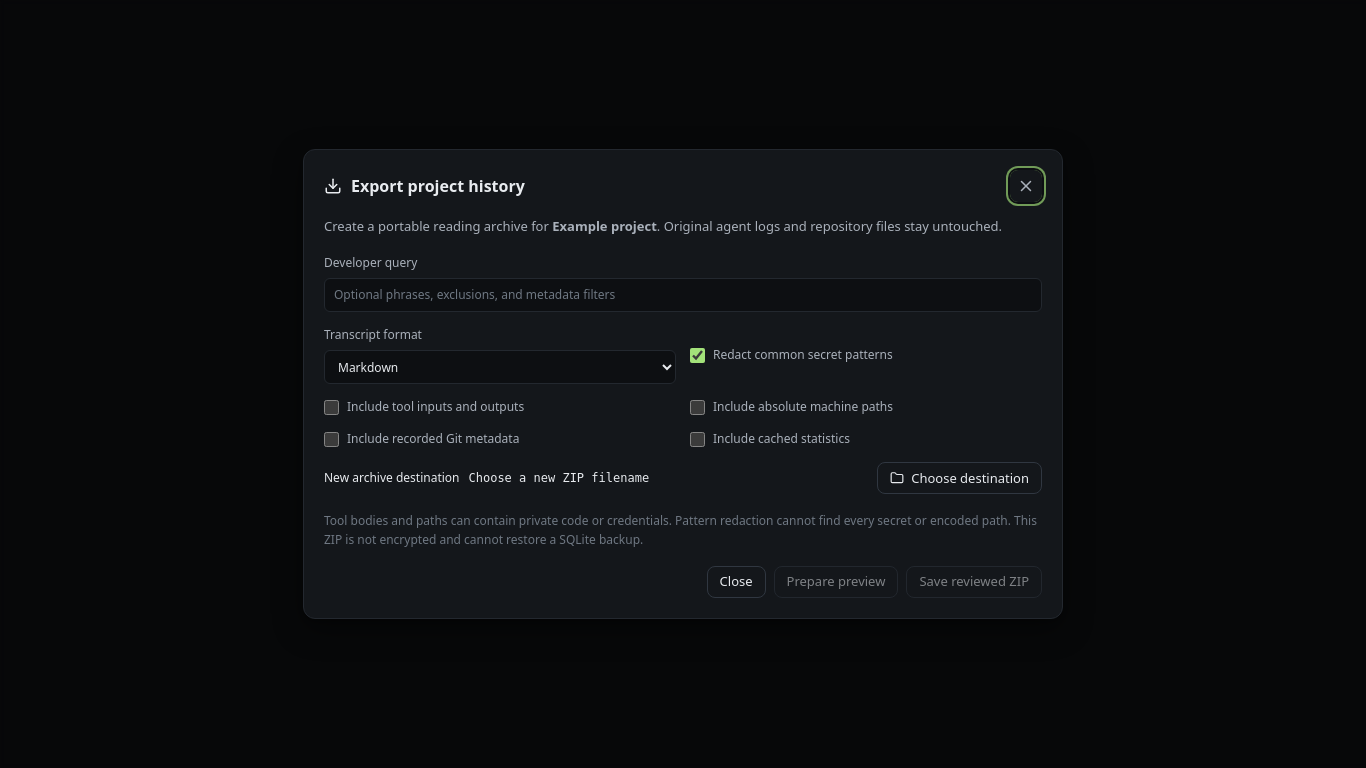
Test: cancelling a pending preview never makes its late response actionable
Step 1. Click the button "Choose destination" → {"x": 960, "y": 478}, box [877,462,1042,494]
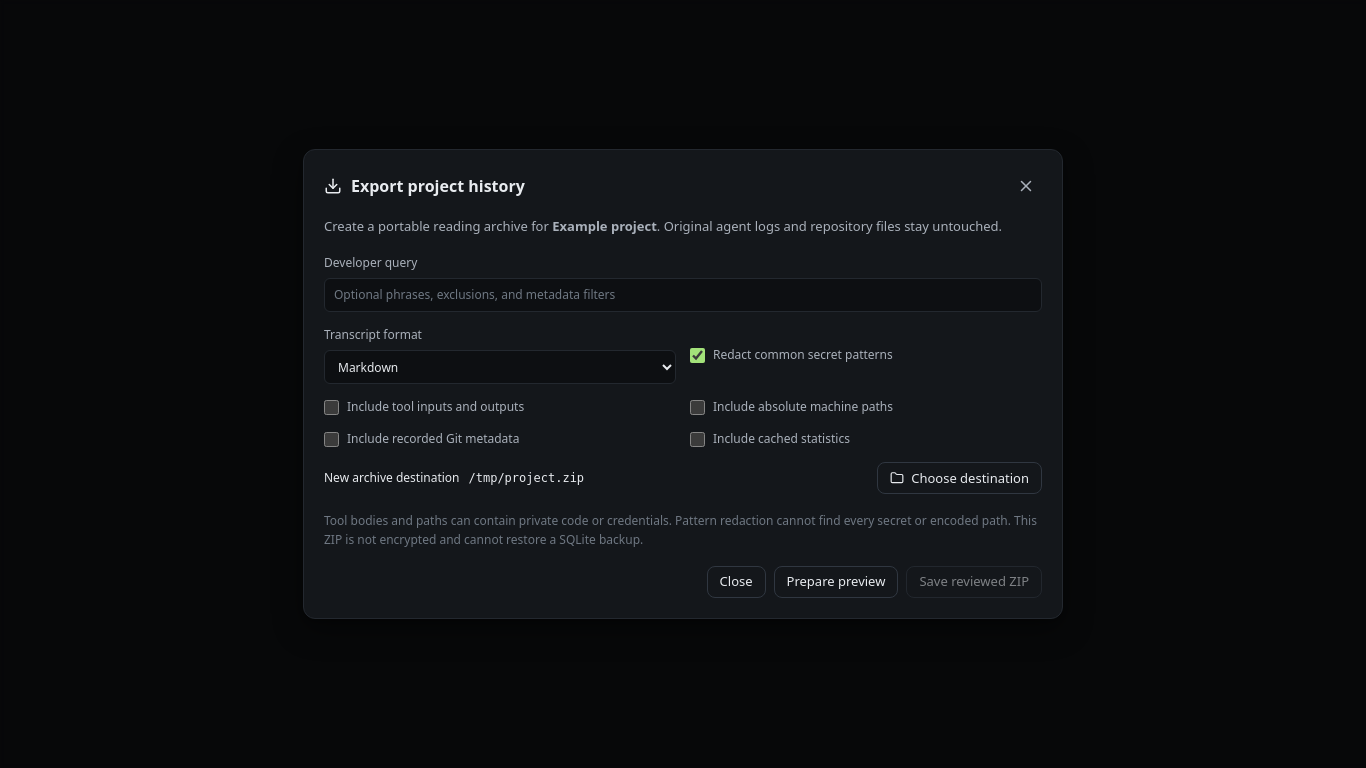
Step 2. Click the button "Prepare preview" → {"x": 836, "y": 582}, box [774,566,898,598]
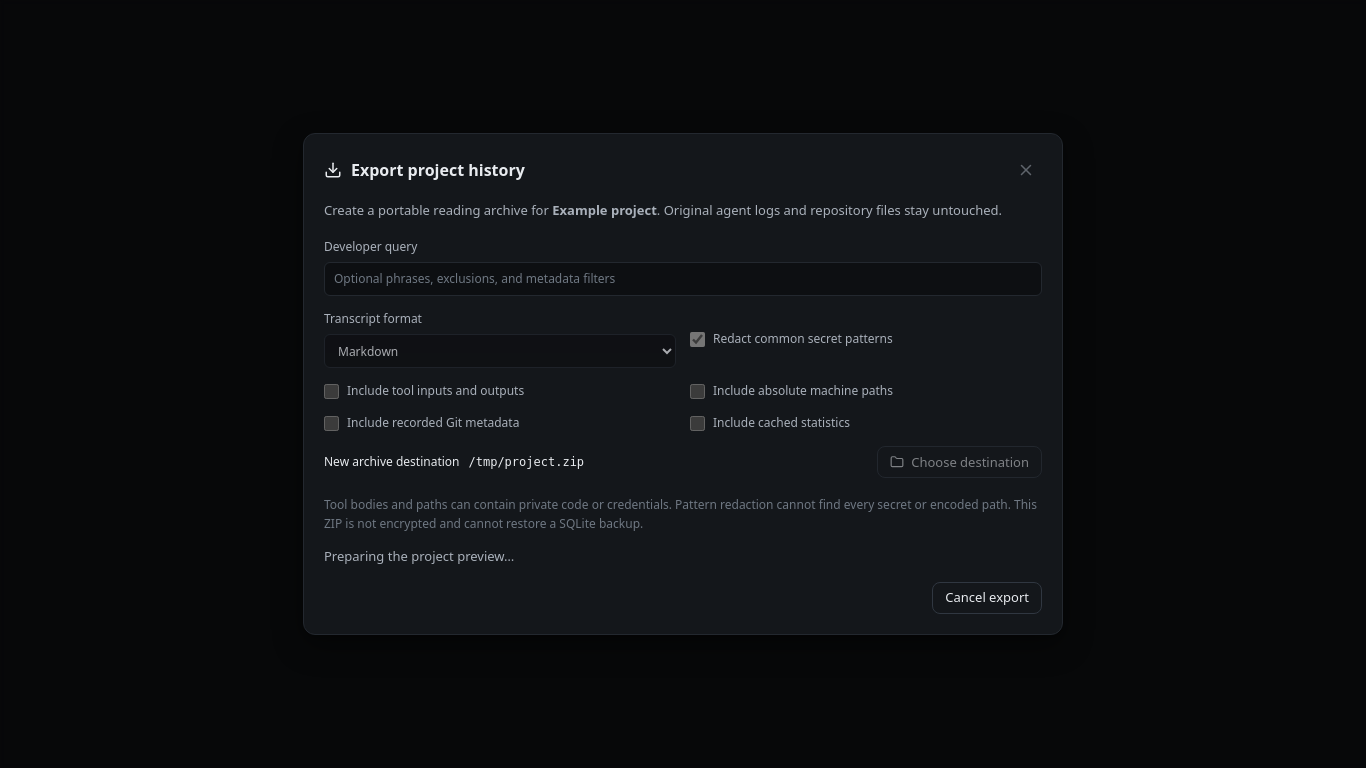
Step 3. Click the button "Cancel export" → {"x": 987, "y": 598}, box [932,582,1042,614]
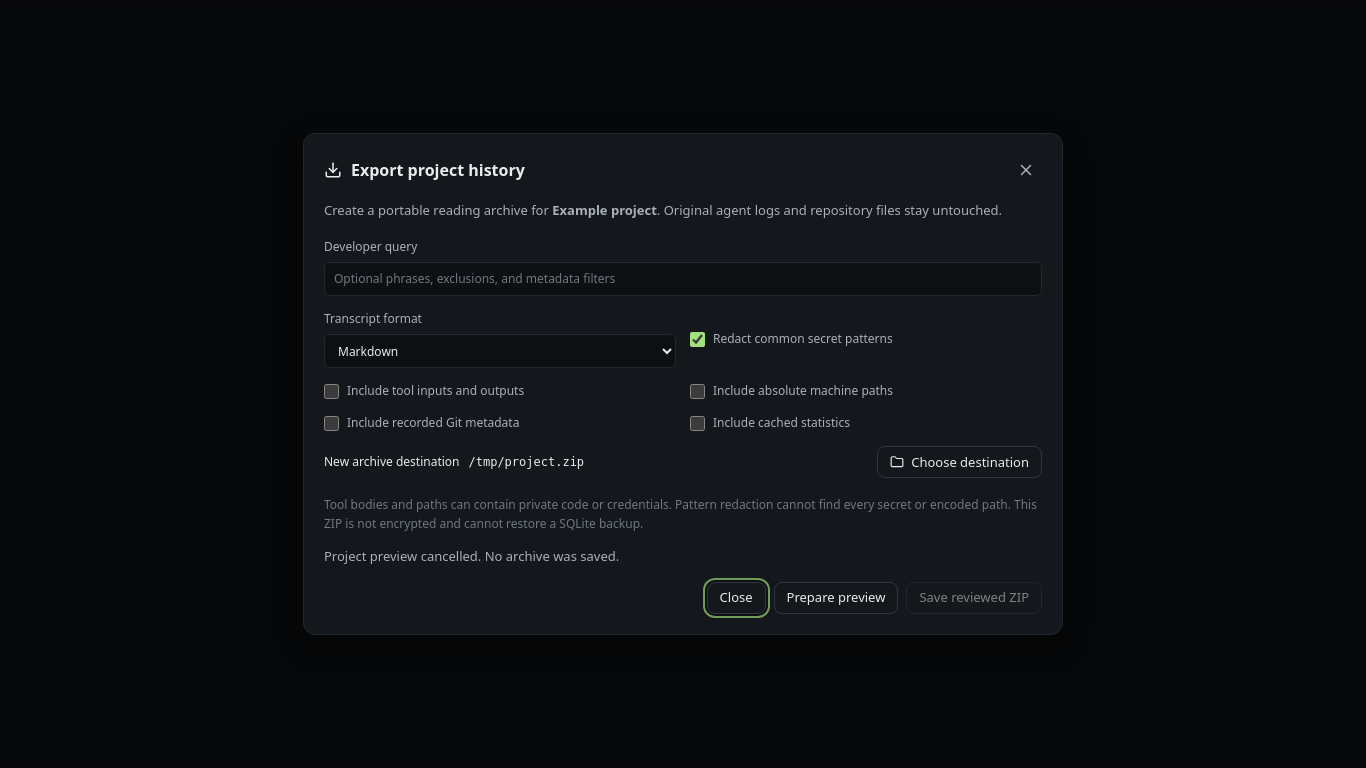
Now the text "Project preview cancelled. No archive was saved." is shown, box [324,547,619,565]
Now the button "Save reviewed ZIP" is disabled, box [906,582,1042,614]
